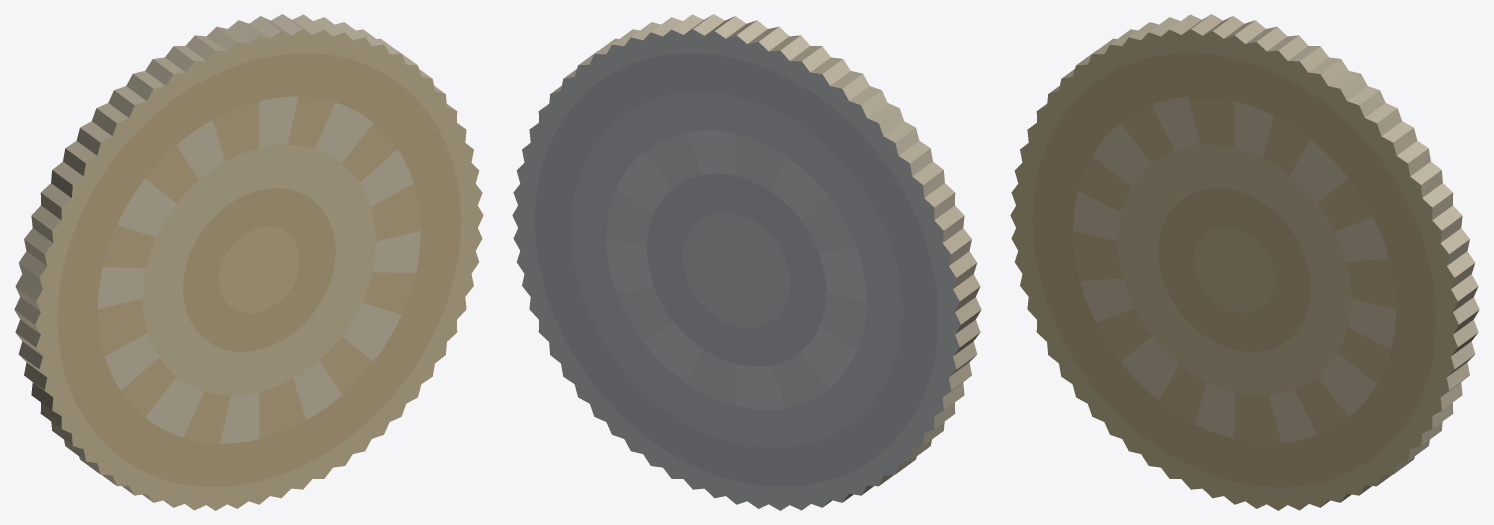
The model's file is neutral-coin-education.glb.
3 views of the same model, side by side, from view 1: azimuth 30°, elevation 25°; view 2: azimuth 150°, elevation 25°; view 3: azimuth 330°, elevation 25° (orthographic).
Visible parts, largest first — view 1: neutral-coin; view 2: neutral-coin; view 3: neutral-coin.
Part boxes in pixels (left/top/right/bottom): neutral-coin: left=14, top=14, right=483, bottom=510; neutral-coin: left=512, top=14, right=981, bottom=510; neutral-coin: left=1010, top=14, right=1479, bottom=510.
Size of the model in its own units: 2 by 2 by 0.16.
